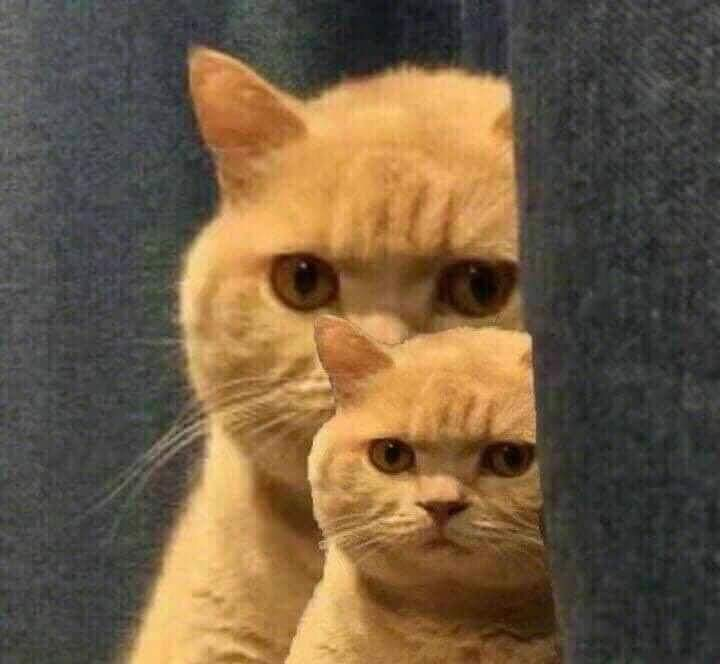cat: (145, 37, 516, 421), (309, 314, 551, 664)
